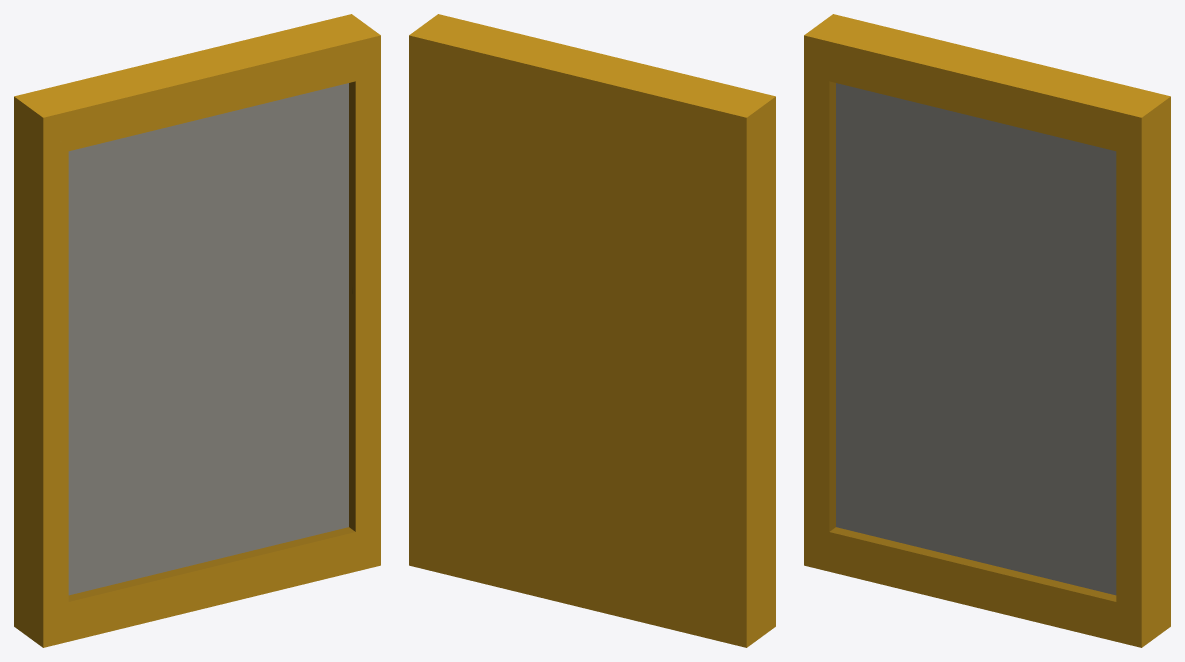
The model's file is PaintingModel.fbx.
The picture shows the model from 3 angles, left to right: view 1: azimuth 30°, elevation 25°; view 2: azimuth 150°, elevation 25°; view 3: azimuth 330°, elevation 25°; orthographic projection.
Visible parts, largest first — view 1: Painting; view 2: Painting; view 3: Painting.
Part boxes in pixels (box(x1,y1,x2,y2)): Painting: box(14, 14, 380, 647); Painting: box(409, 14, 775, 647); Painting: box(804, 14, 1170, 647).
Bounding box in the file's own units: 1 × 1.5 × 0.15.
